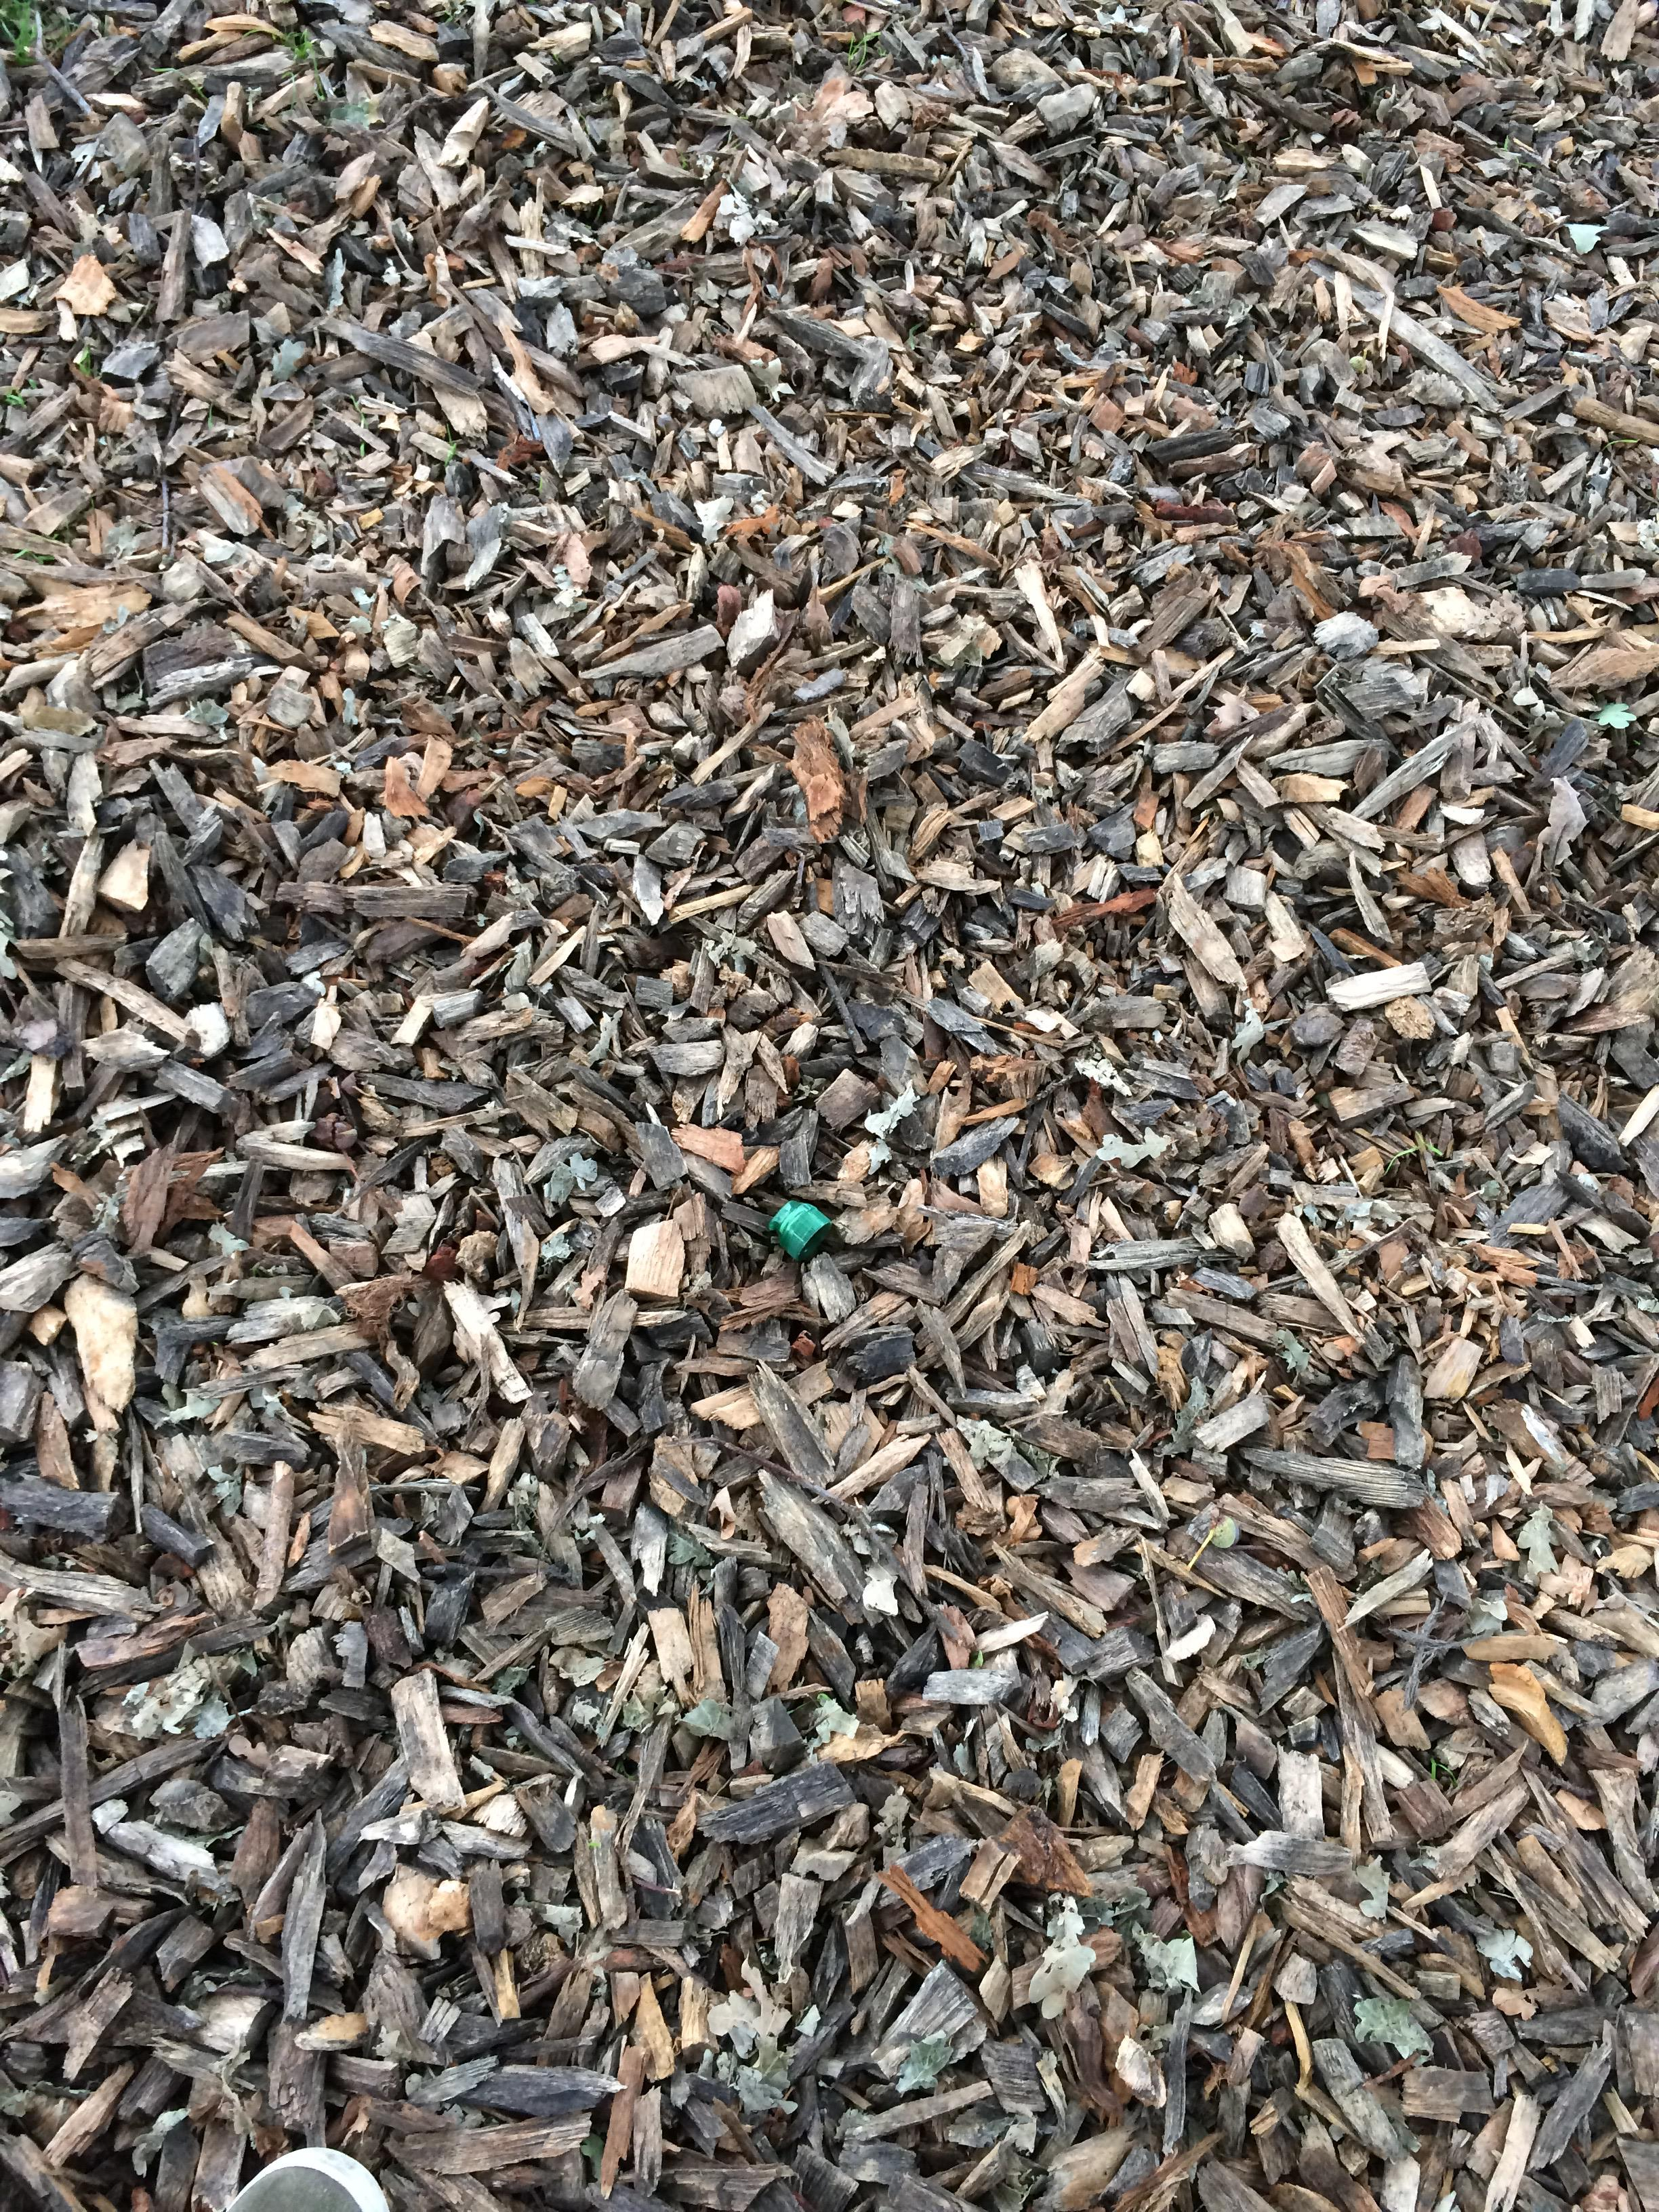Trash: (765, 1198, 824, 1252)
